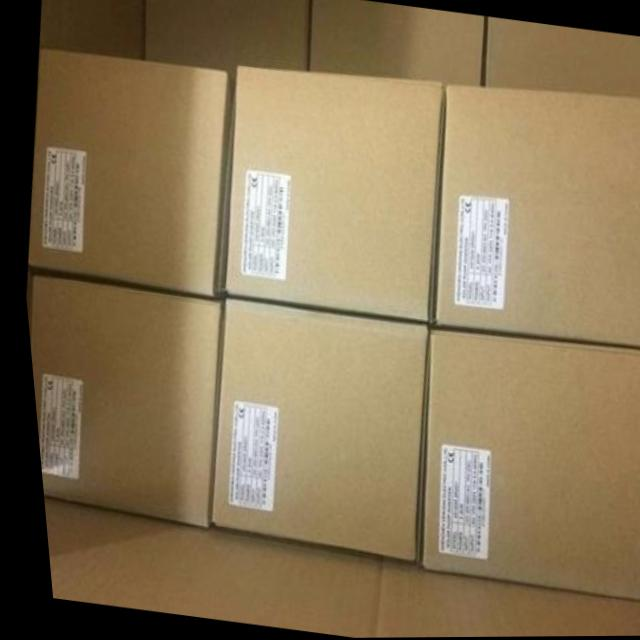box: (410, 328, 640, 602), (201, 297, 425, 563), (218, 67, 443, 322), (427, 86, 640, 349), (24, 48, 235, 301), (24, 273, 218, 528), (309, 0, 486, 87), (144, 0, 309, 93), (481, 19, 640, 101), (38, 0, 145, 57)
